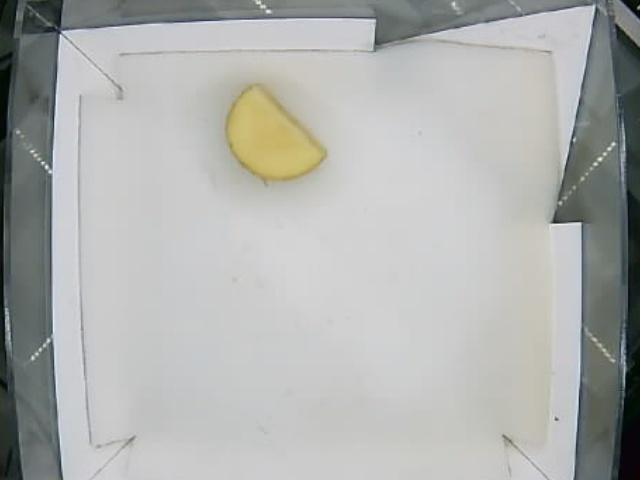Potato: (226, 85, 327, 187)
